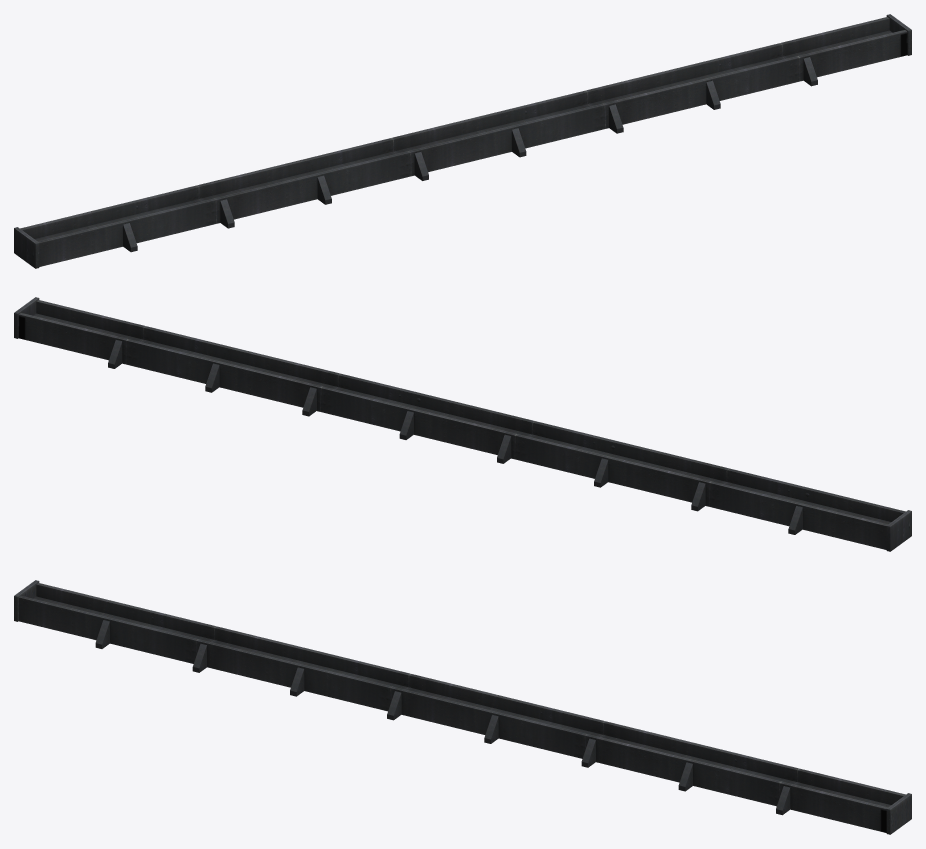
Rendered from motionplatform_rail.obj.
3 views of the same model, one above another, from view 1: azimuth 30°, elevation 25°; view 2: azimuth 150°, elevation 25°; view 3: azimuth 330°, elevation 25° (orthographic).
Visible parts, largest first — view 1: g0; view 2: g0; view 3: g0.
Boxes of the visible parts, <box> form: g0: <box>14,14,911,268</box>; g0: <box>14,297,911,551</box>; g0: <box>14,580,911,834</box>.
Size of the model in its own units: 577 by 15.83 by 40.33.
Materials: 1 (1 with a texture image).
